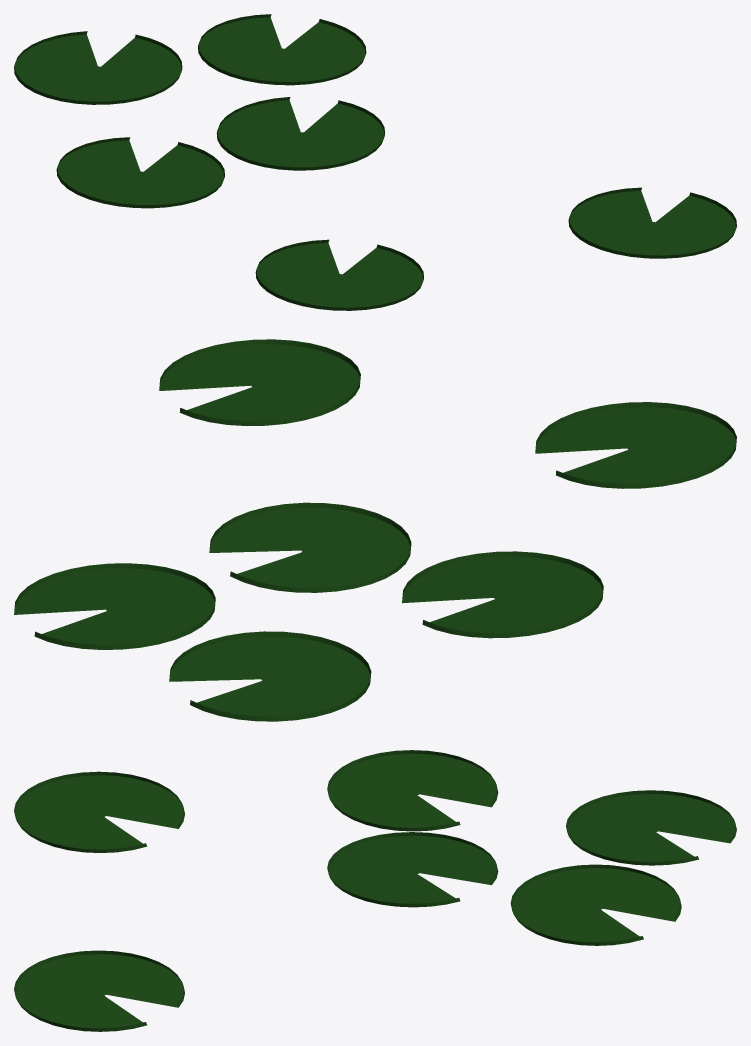
The model's file is lily_pad.obj.
3 views of the same model, one above another, from view 1: azimuth 30°, elevation 25°; view 2: azimuth 150°, elevation 25°; view 3: azimuth 270°, elevation 25° (orthographic). The views are drawn at different scales.
Parts seen in each view (by area): view 1: lily_pad_0; view 2: lily_pad_0; view 3: lily_pad_0.
Part boxes in pixels (x1,y1,x2,y2): lily_pad_0: (14, 14, 736, 310); lily_pad_0: (14, 339, 736, 721); lily_pad_0: (14, 750, 736, 1031).
Bounding box in the file's own units: 14.86 × 0.9599 × 18.32.
